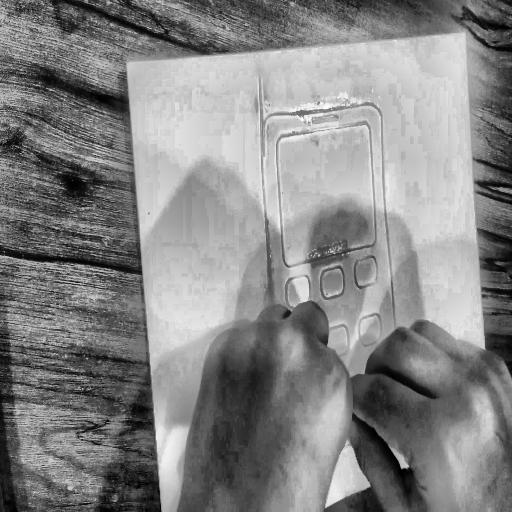bottom_right: (489, 422, 496, 433)
mobile: (248, 60, 414, 487)
top_left: (124, 58, 131, 69)
top_right: (462, 28, 469, 40)
